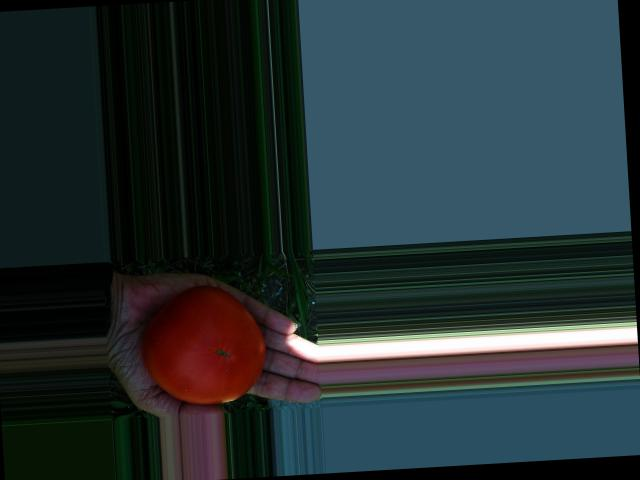tomato: (140, 281, 268, 407)
